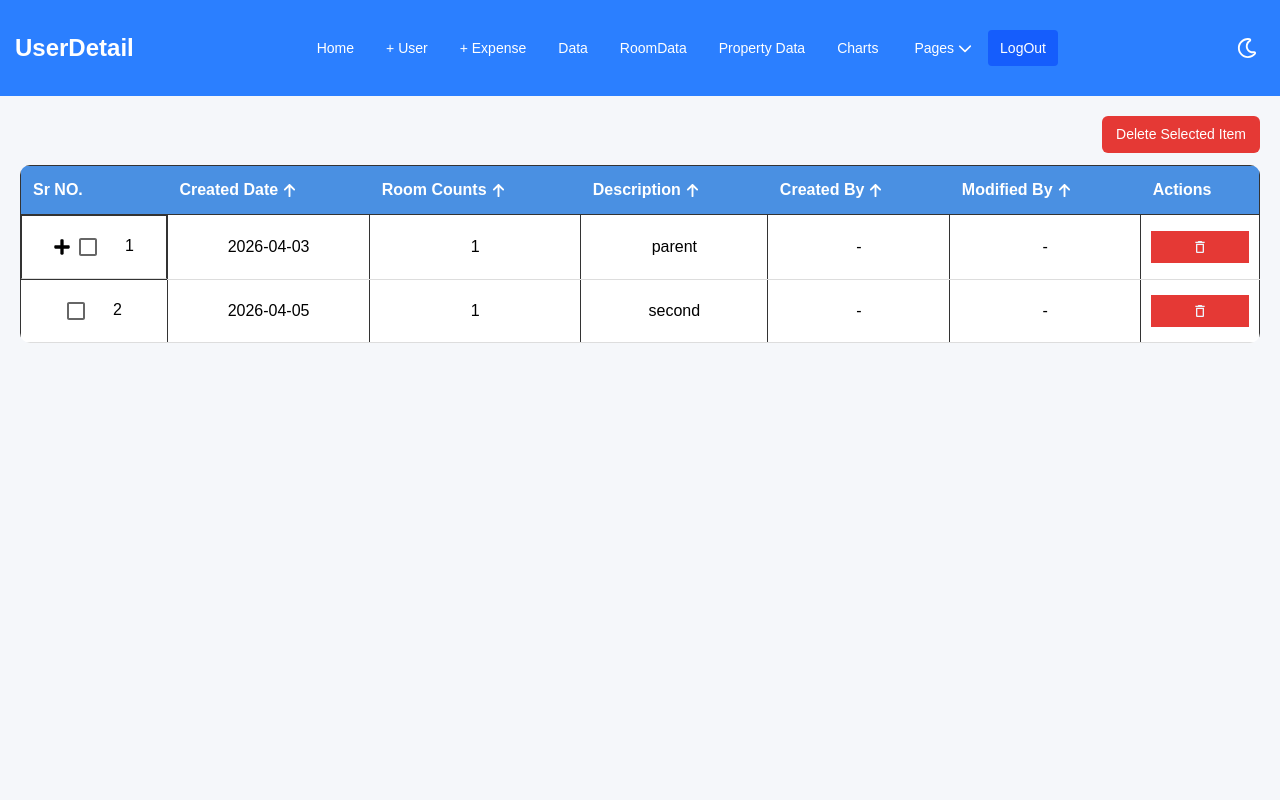
Test: Room Data Component › sub row single delete record
This screenshot has width=1280, height=800.
Click the element with test id "expand-btn" at {"x": 62, "y": 247}, box [54,239,70,255]
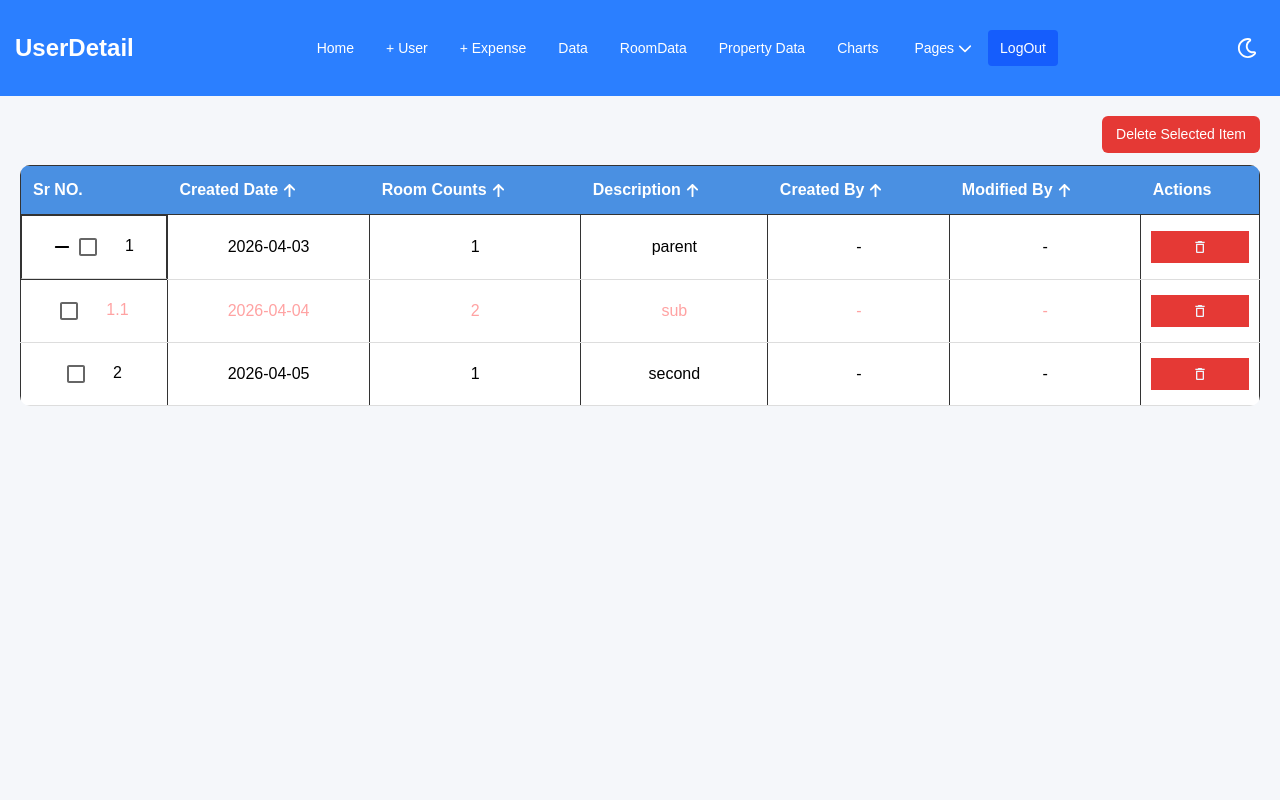
Check: the text "sub" is shown, box [581,280,768,342]
Click the button with test id "subDataDleBtn" at {"x": 1200, "y": 311}, box [1151,295,1249,327]
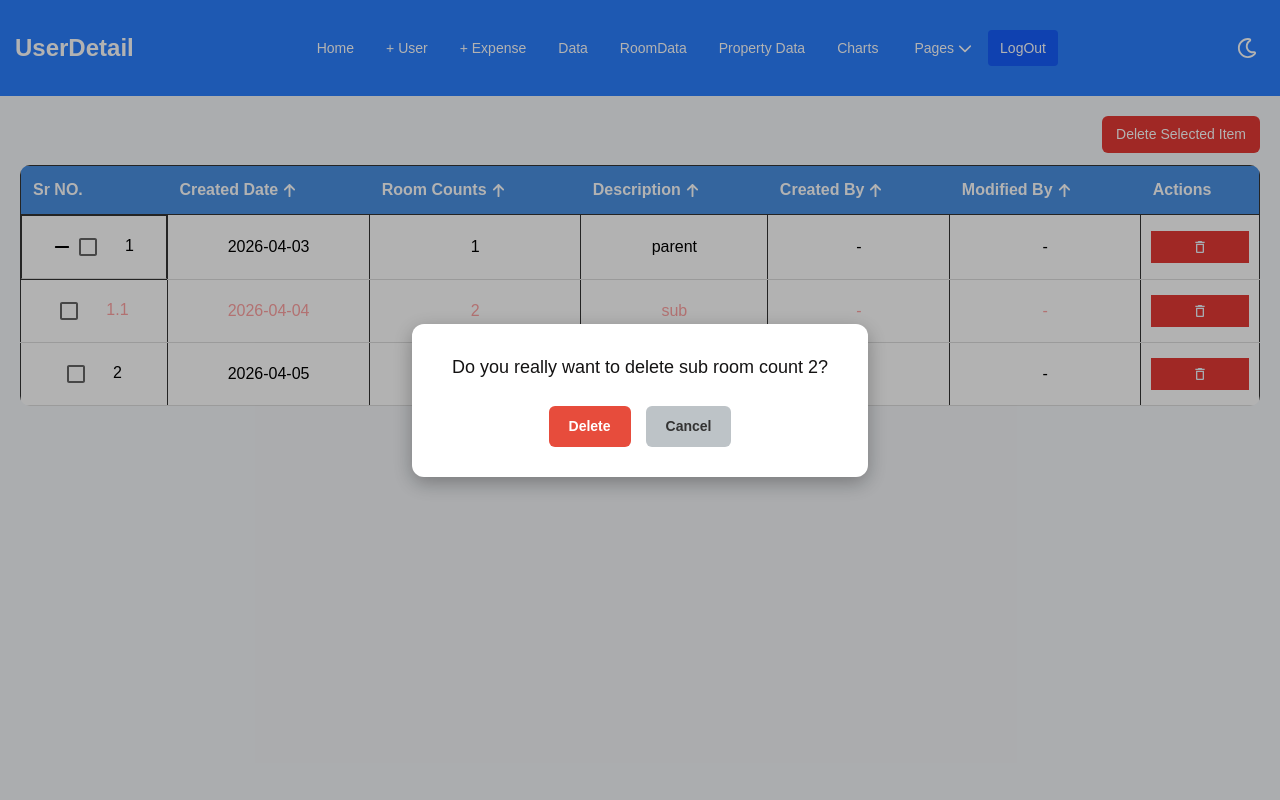
Click the button "Delete" at {"x": 590, "y": 426}, box [548,406,630,446]
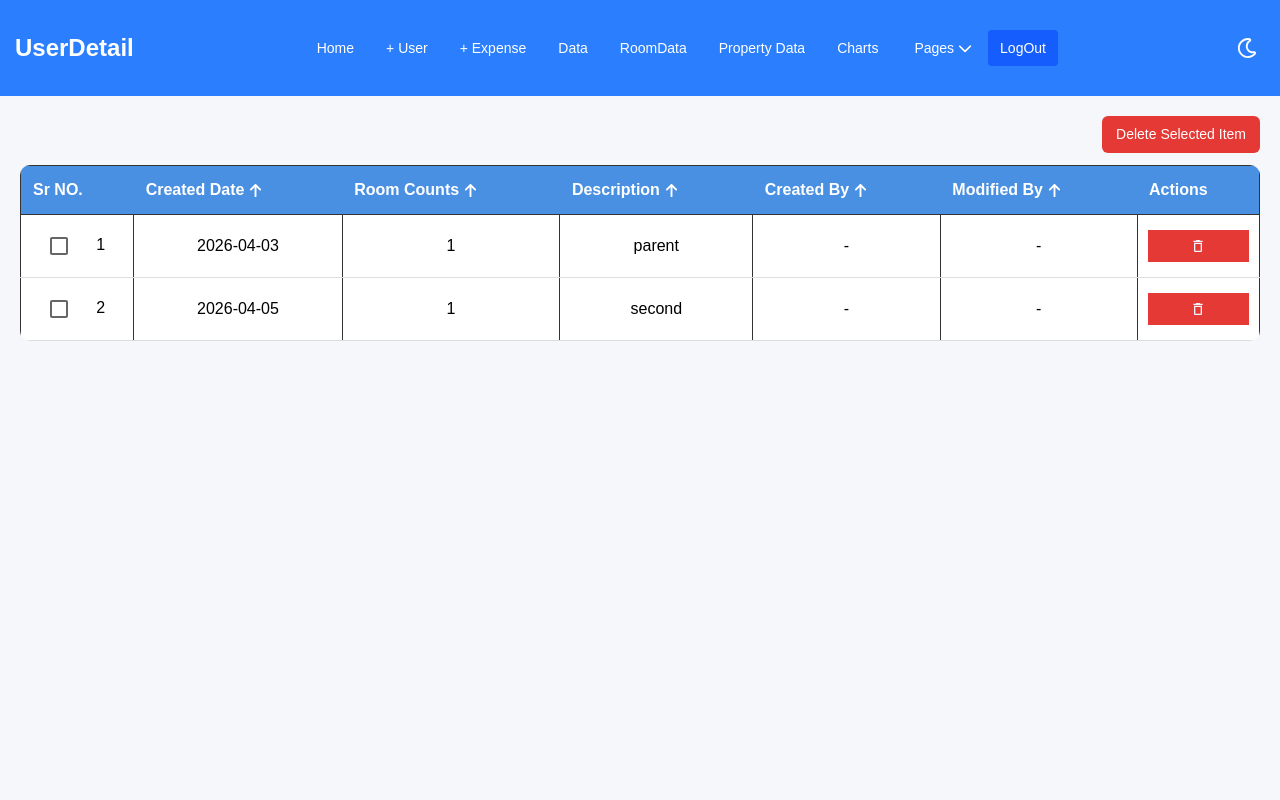
Check: the text "parent" is shown, box [560,214,753,278]
Check: the text "sub" is gone
